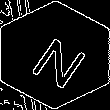N_NE: (20, 23, 90, 87)
